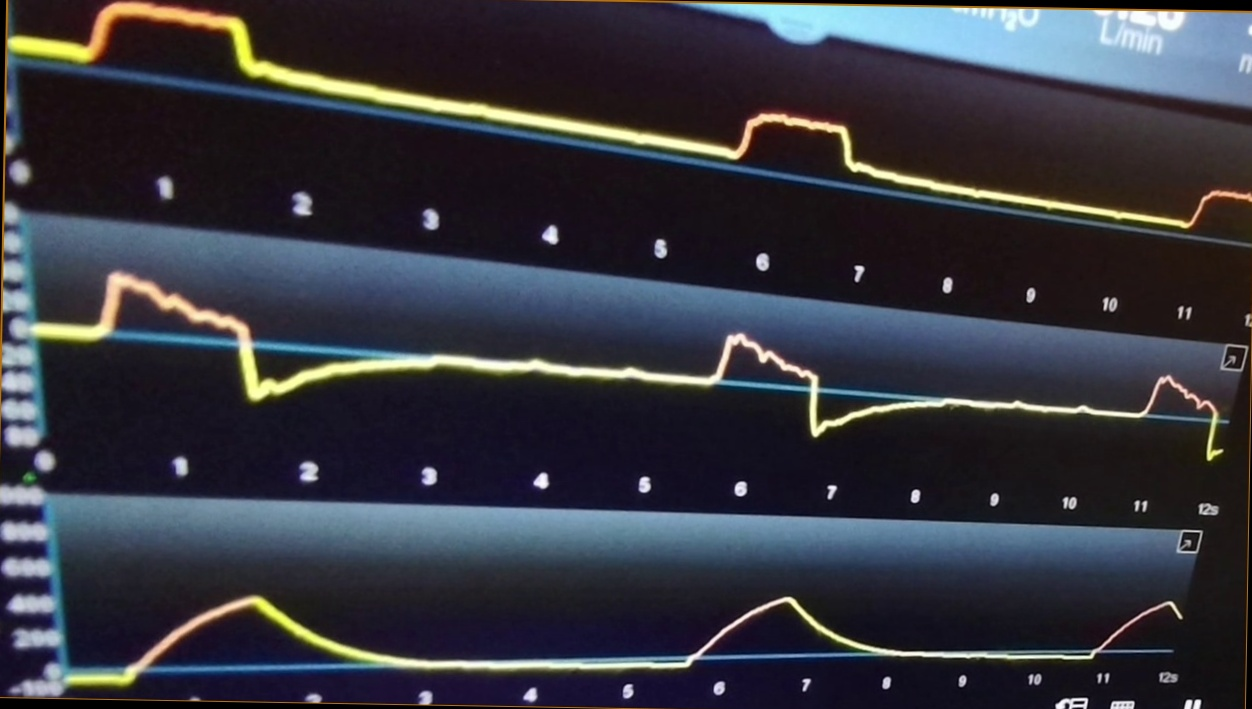Accumulation Flow: (50, 267, 1223, 459)
Volume: (69, 577, 1183, 691)
